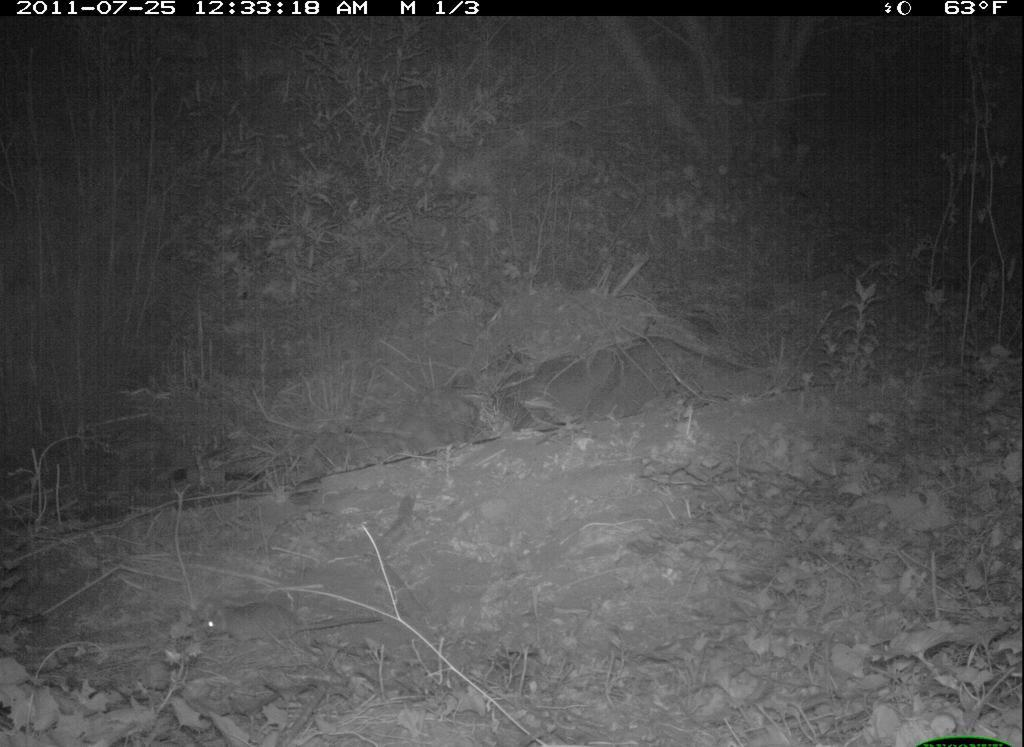rodent: (200, 600, 381, 658)
